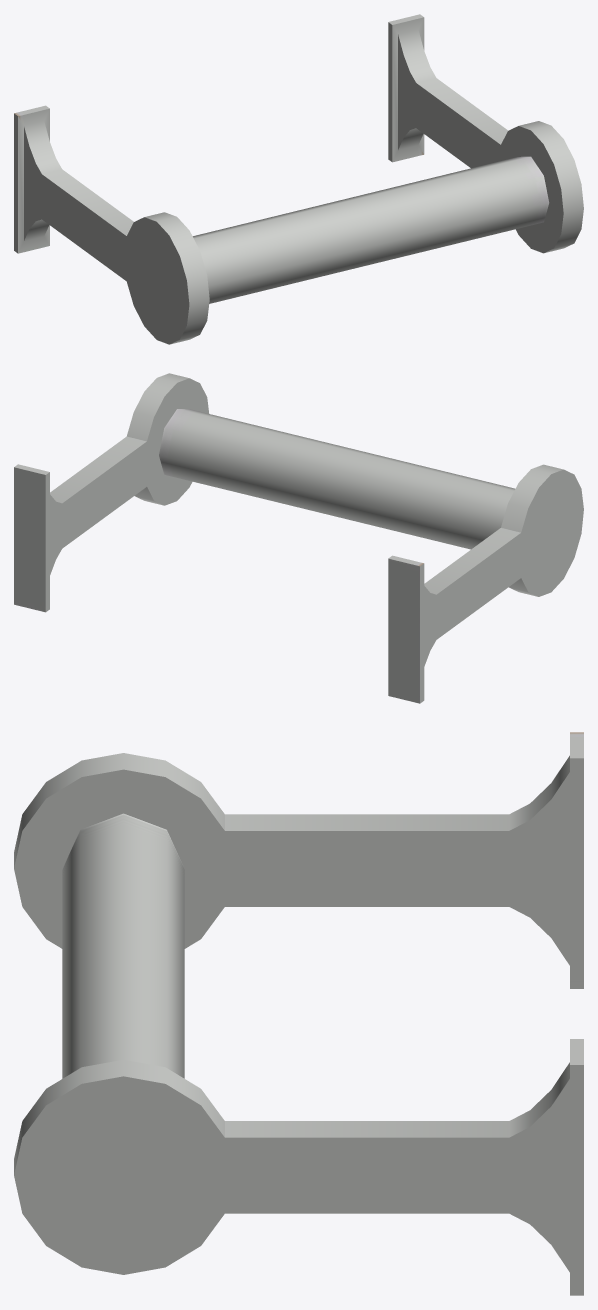
The model's file is SM_Toilet_Roll_Holder_02.glb.
3 views of the same model, one above another, from view 1: azimuth 30°, elevation 25°; view 2: azimuth 150°, elevation 25°; view 3: azimuth 270°, elevation 25° (orthographic). The views are drawn at different scales.
Parts seen in each view (by area): view 1: SM_Toilet_Roll_Holder_02; view 2: SM_Toilet_Roll_Holder_02; view 3: SM_Toilet_Roll_Holder_02.
Boxes of the visible parts, x1,y1,x2,y2 form: SM_Toilet_Roll_Holder_02: (14, 14, 583, 344); SM_Toilet_Roll_Holder_02: (14, 373, 583, 703); SM_Toilet_Roll_Holder_02: (14, 732, 583, 1295).
Size of the model in its own units: 0.1954 by 0.0632 by 0.1415.
1 material, 1 textured.
